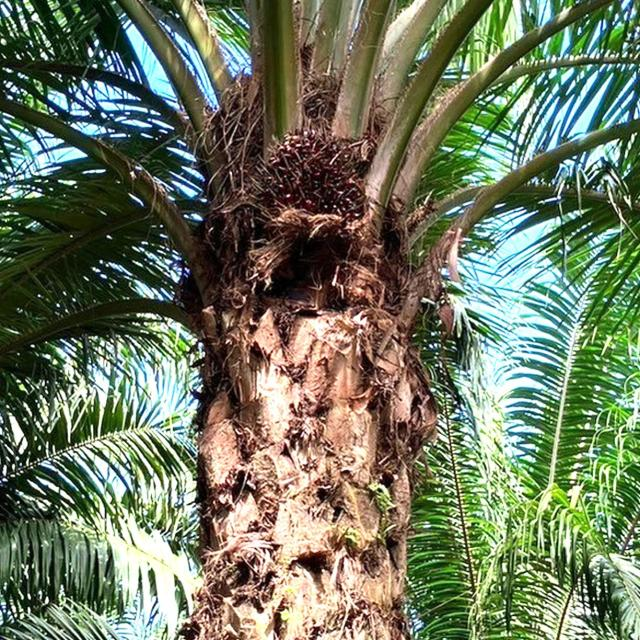ripe: (247, 114, 375, 253)
